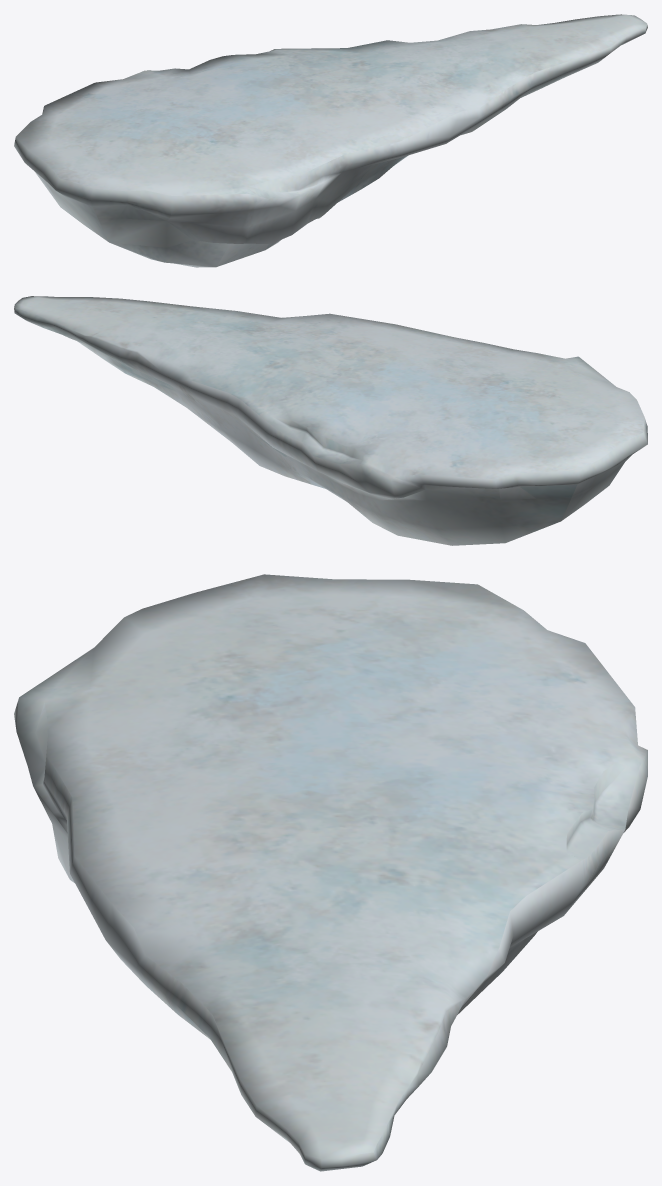
The model's file is P_RockDesert_CliffHalf08.obj.
3 renders of one model, top to bottom at view 1: azimuth 30°, elevation 25°; view 2: azimuth 150°, elevation 25°; view 3: azimuth 270°, elevation 25°, orthographic. The views are drawn at different scales.
Bounding box in the file's own units: 98.93 × 20.35 × 45.31.
